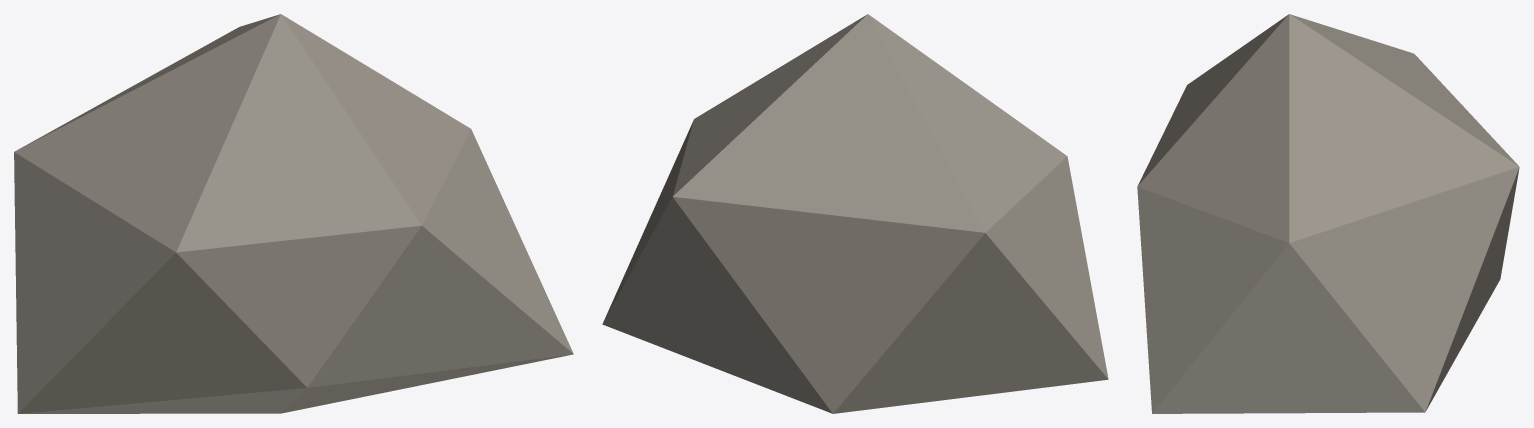
Rendered from HS_LP_Rock_Small_04.fbx.
3 renders of one model, left to right at view 1: azimuth 30°, elevation 25°; view 2: azimuth 150°, elevation 25°; view 3: azimuth 270°, elevation 25°, orthographic. The views are drawn at different scales.
Parts seen in each view (by area): view 1: HS_LP_Rock_Small_04; view 2: HS_LP_Rock_Small_04; view 3: HS_LP_Rock_Small_04.
Boxes of the visible parts, x1,y1,x2,y2 form: HS_LP_Rock_Small_04: (14,14,573,413); HS_LP_Rock_Small_04: (602,14,1108,413); HS_LP_Rock_Small_04: (1137,14,1519,413).
Size of the model in its own units: 46.21 by 36.76 by 35.33.
